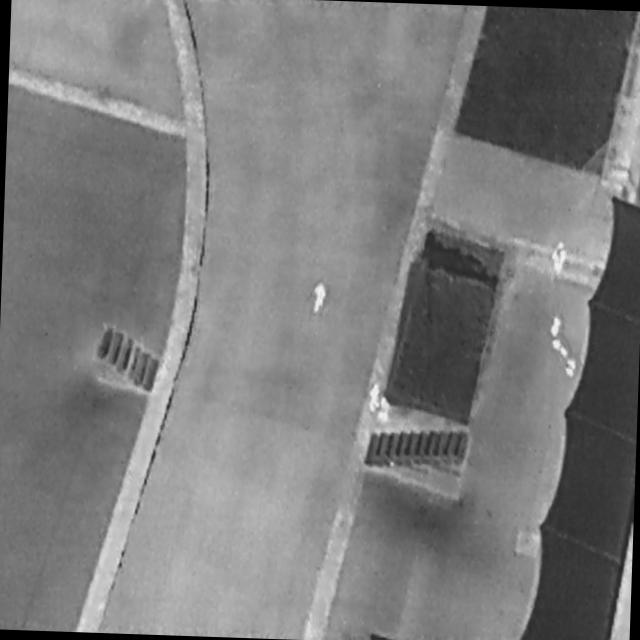person: (550, 239, 568, 279), (312, 278, 328, 315), (367, 379, 382, 413), (379, 396, 392, 424)
